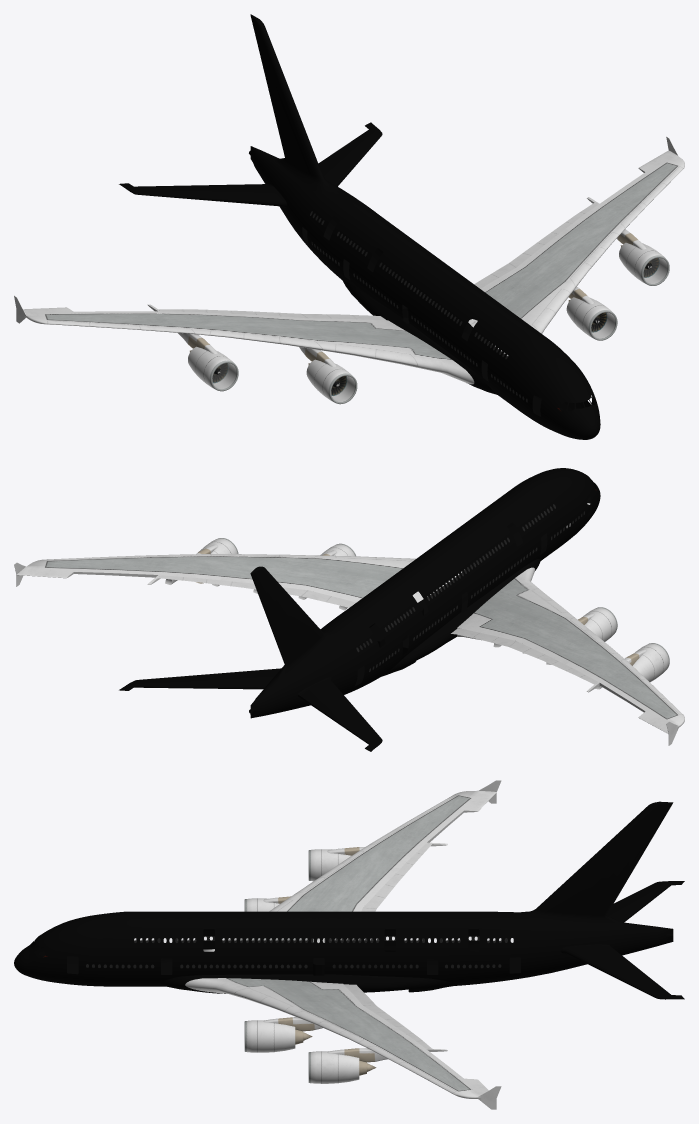
File: Airplane_Exterior.FBX
The picture shows the model from 3 angles, top to bottom: view 1: azimuth 30°, elevation 25°; view 2: azimuth 150°, elevation 25°; view 3: azimuth 270°, elevation 25°; orthographic projection. The views are drawn at different scales.
Visible parts, largest first — view 1: Plane_Base, Wing_Stick_Left, Wing_Stick_Right; view 2: Plane_Base, Wing_Stick_Right, Wing_Stick_Left; view 3: Plane_Base, Glass_Body, Wing_Stick_Right, Wing_Stick_Left.
Boxes of the visible parts, box(x1,y1,x2,y2) form: Plane_Base: box(14, 14, 684, 439); Wing_Stick_Left: box(474, 203, 597, 288); Wing_Stick_Right: box(158, 309, 386, 320); Plane_Base: box(14, 468, 684, 751); Wing_Stick_Right: box(451, 628, 597, 684); Wing_Stick_Left: box(158, 575, 356, 607); Plane_Base: box(14, 780, 684, 1109); Glass_Body: box(86, 937, 512, 967); Wing_Stick_Right: box(352, 843, 431, 939); Wing_Stick_Left: box(344, 984, 431, 1048).
Size of the model in its own units: 7858 by 2250 by 7278.
